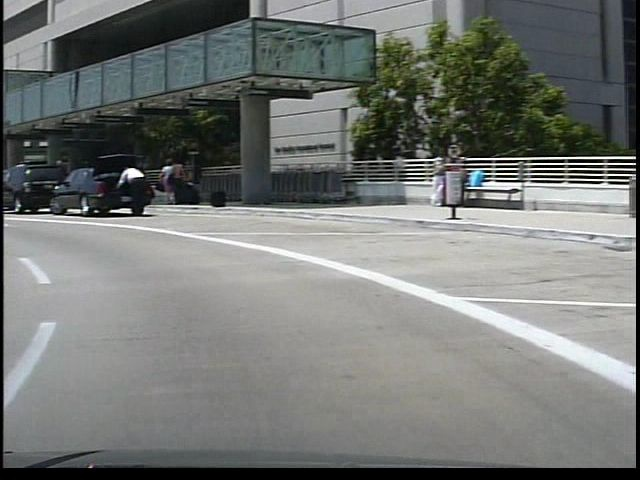person: (110, 164, 146, 221), (165, 155, 183, 208), (154, 159, 170, 207)
